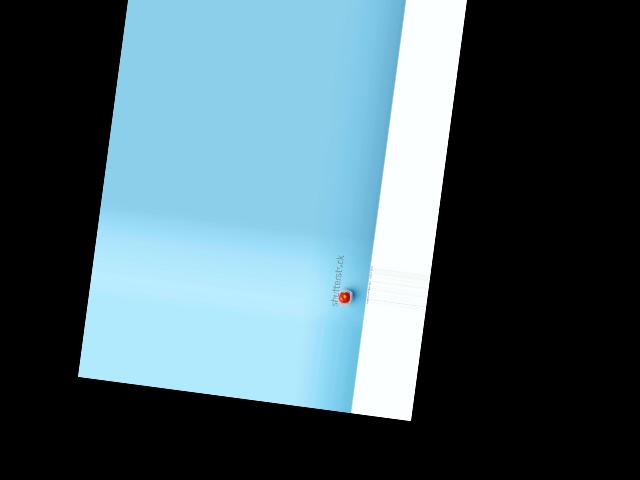tomato: (338, 290, 350, 303)
